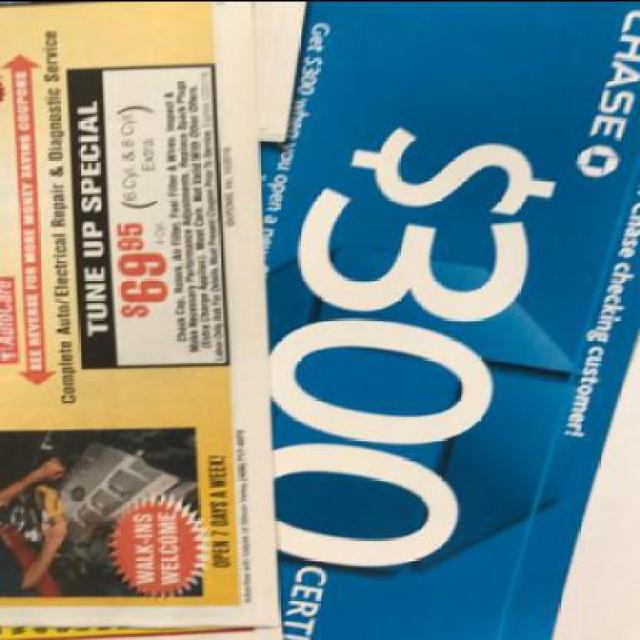PAPER: (257, 1, 638, 638), (2, 2, 286, 640)
